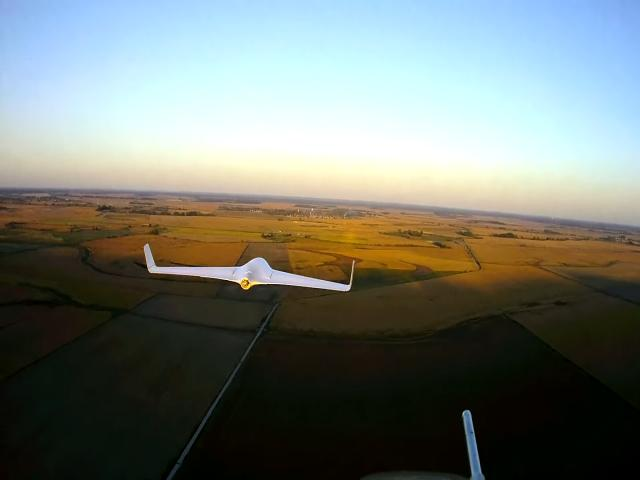plane: (143, 241, 355, 293)
